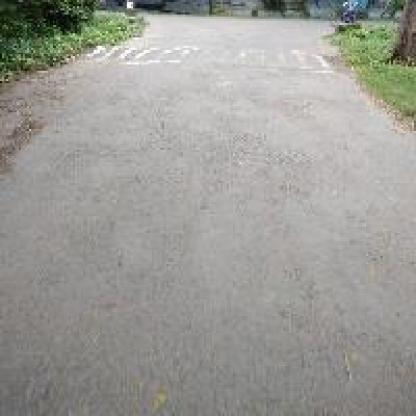Speed Bump: (75, 44, 322, 62)
